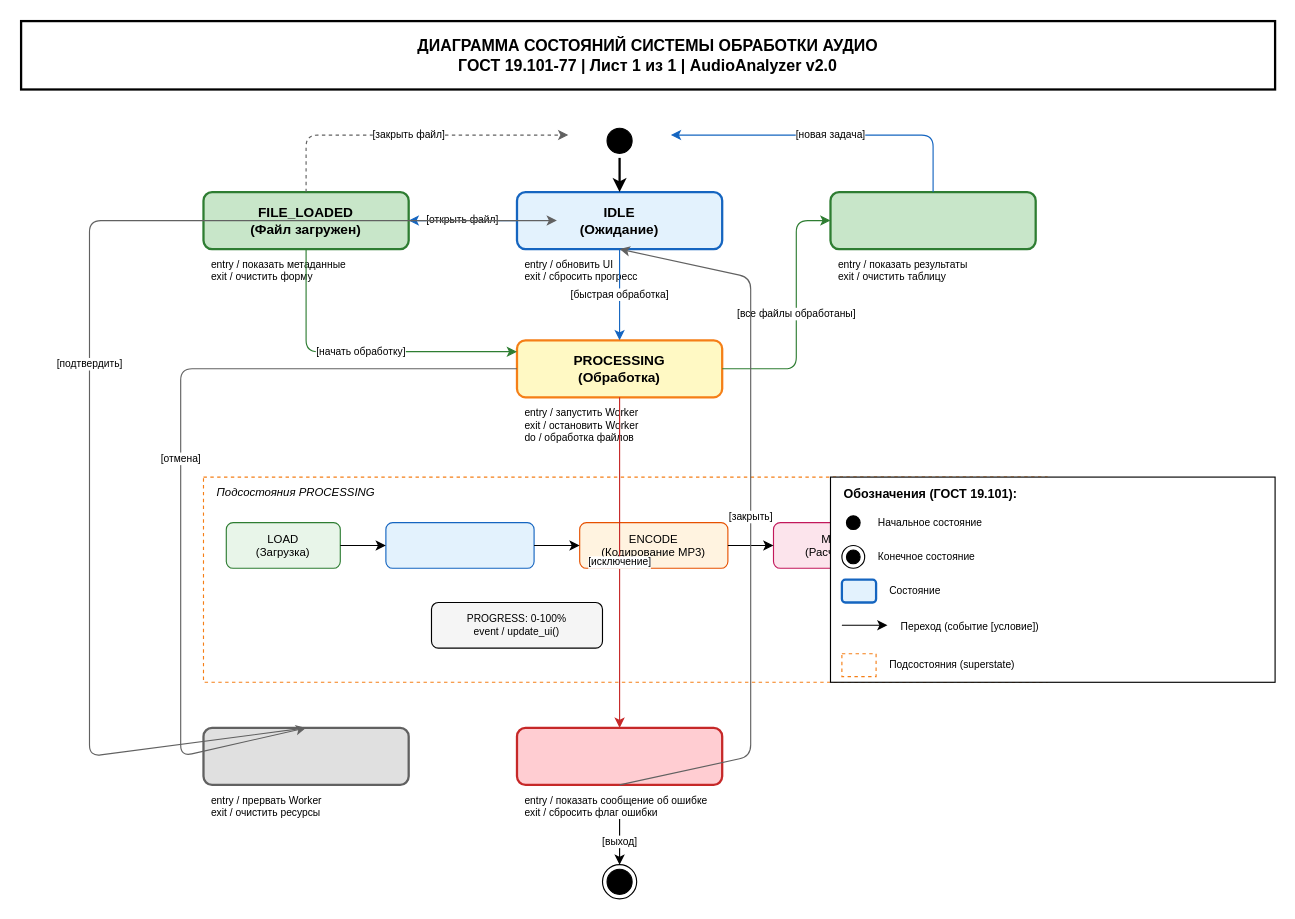
The diagram is 1295 pixels wide and 919 high, and some of its shapes have lost their labels. The centre of each missing label's shape, as x and y in pixels:
CANCELLED (Отменено): the point at 305,755
COMPLETED (Завершено): the point at 932,220
ERROR (Ошибка): the point at 619,755
TRANSFORM (Преобразование): the point at 459,545
